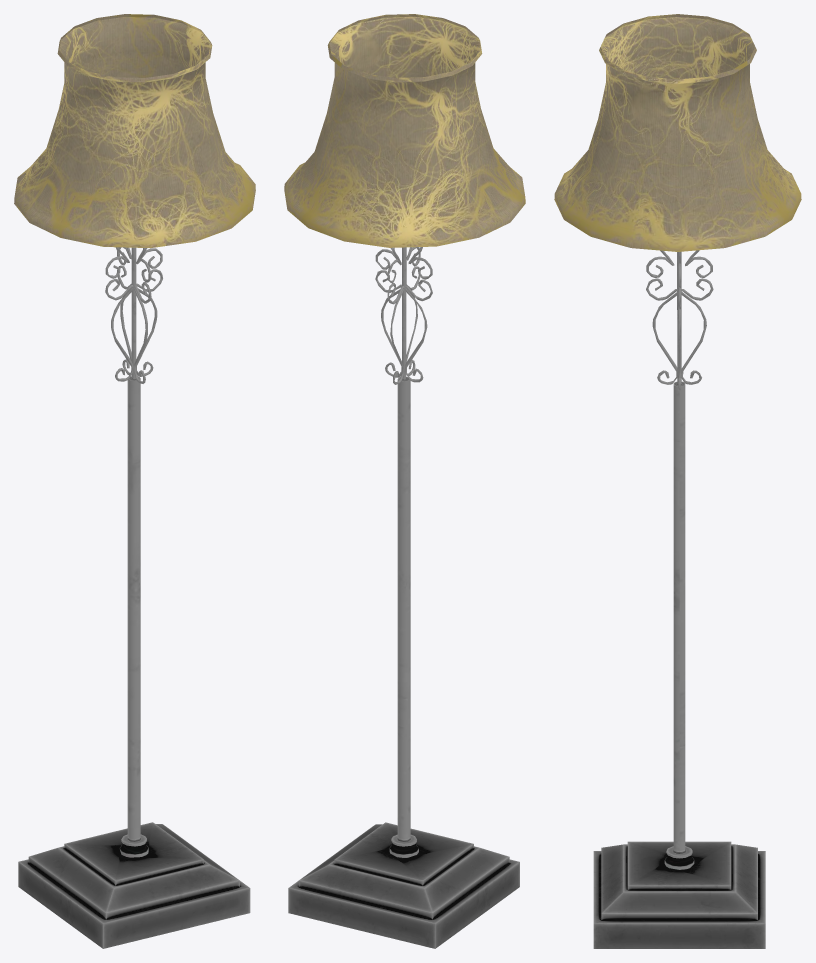
3 renders of one model, left to right at view 1: azimuth 30°, elevation 25°; view 2: azimuth 150°, elevation 25°; view 3: azimuth 270°, elevation 25°, orthographic.
Visible parts, largest first — view 1: defaultMaterial; view 2: defaultMaterial; view 3: defaultMaterial.
Part boxes in pixels (box(x1,y1,x2,y2)): defaultMaterial: box(14, 14, 255, 948); defaultMaterial: box(284, 14, 525, 948); defaultMaterial: box(554, 14, 801, 948).
Bounding box in the file's own units: 0.5172 × 2 × 0.5172.
Materials: 1 (1 with a texture image).
